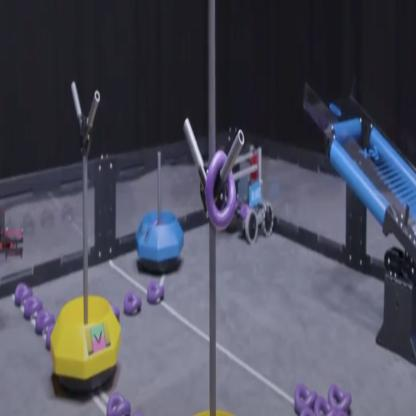ring: (205, 148, 235, 230), (295, 381, 318, 411), (328, 383, 352, 410), (106, 392, 130, 416), (314, 394, 334, 416), (124, 289, 142, 313), (24, 295, 44, 316), (36, 309, 54, 332), (15, 281, 32, 304), (147, 281, 164, 301), (46, 321, 56, 345), (240, 203, 251, 219)
